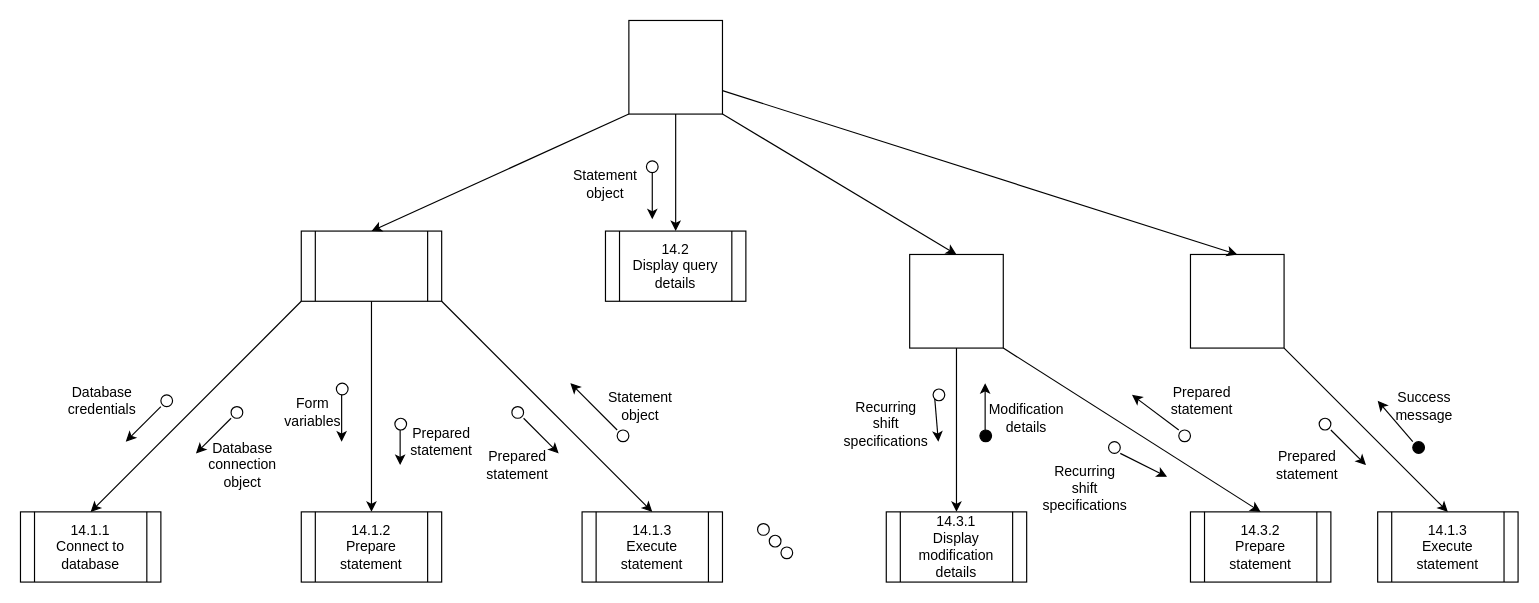
This 1539x603 diagram has some shape labels left out. The shapes that lost their labels are listed below. From the top down, each one's centre as x and y in pixels, then its label:
At (675,66): "14.0 Modify recurring shifts".
At (371,265): "14.1 Query database".
At (956,300): "14.3 Update recurring shift details".
At (1236,300): "14.4 Commit to database".
